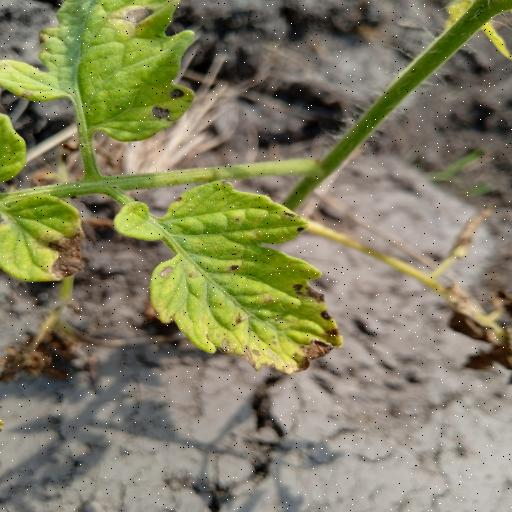Tomato_Brown_Spots: (109, 176, 347, 380), (0, 0, 199, 146)
